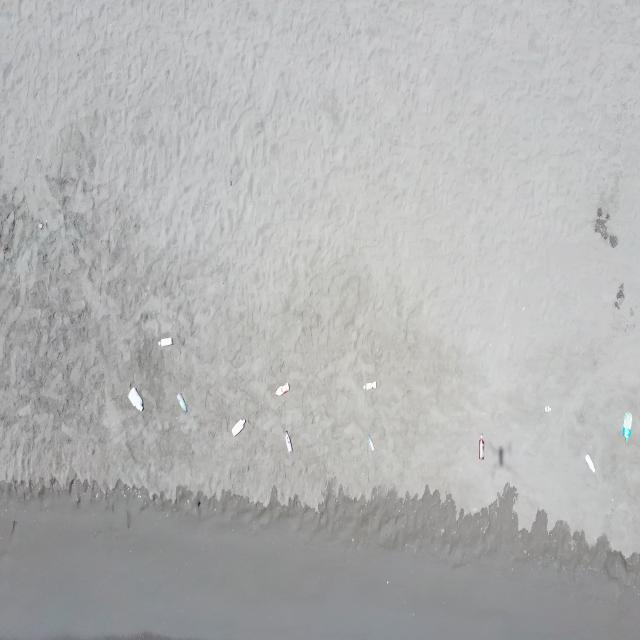Garbage: (128, 387, 141, 411), (622, 413, 631, 442), (176, 392, 186, 412), (232, 419, 244, 435), (477, 433, 484, 459), (584, 453, 593, 472), (283, 431, 291, 452), (276, 382, 287, 395), (158, 336, 172, 346), (497, 446, 503, 466), (36, 220, 47, 230), (364, 380, 375, 390), (367, 435, 372, 451), (544, 404, 550, 412), (37, 221, 43, 228)
